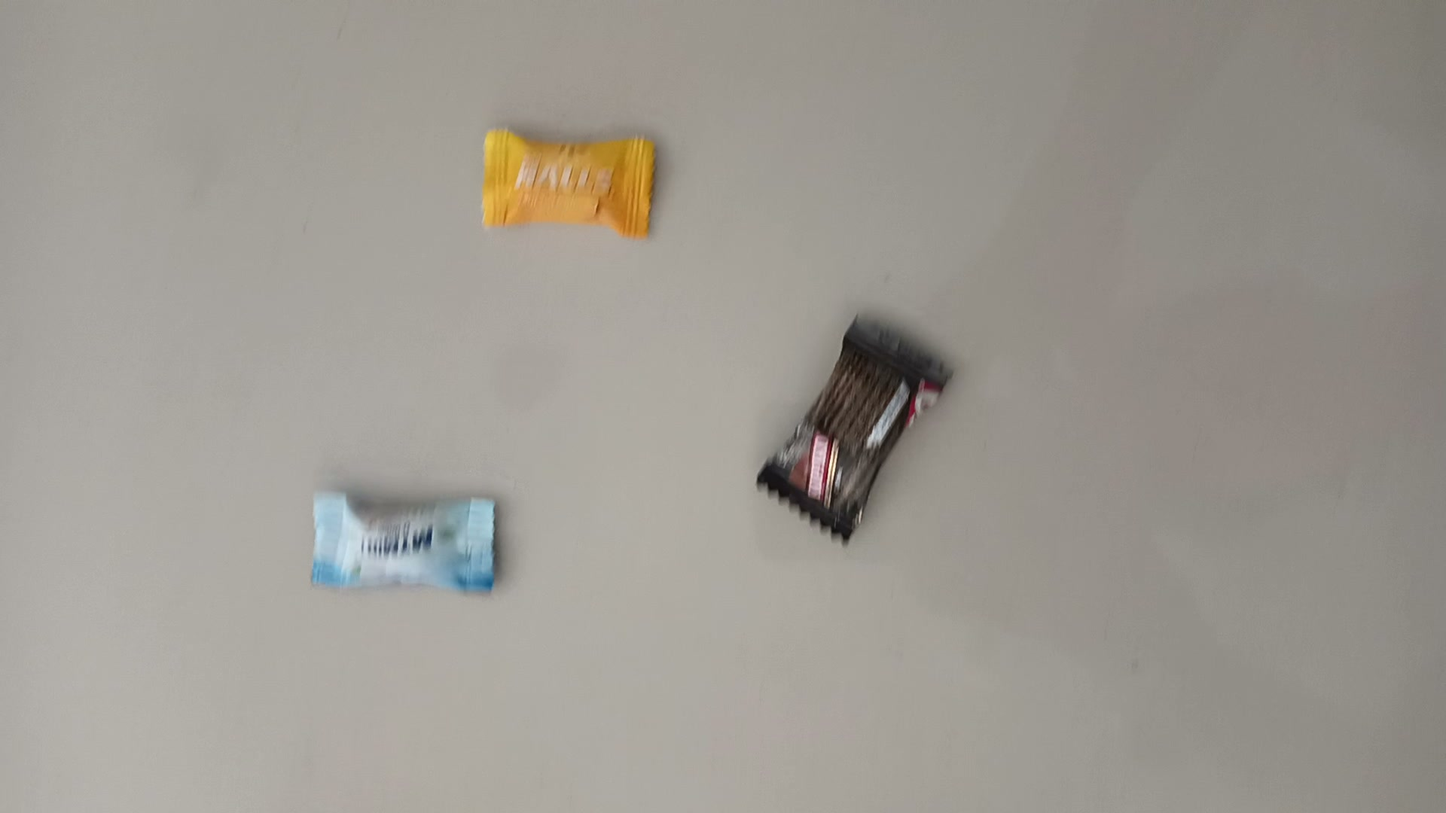HALLS: (472, 129, 673, 245)
KOPIKO: (850, 301, 974, 512)
MYM: (303, 485, 508, 600)
